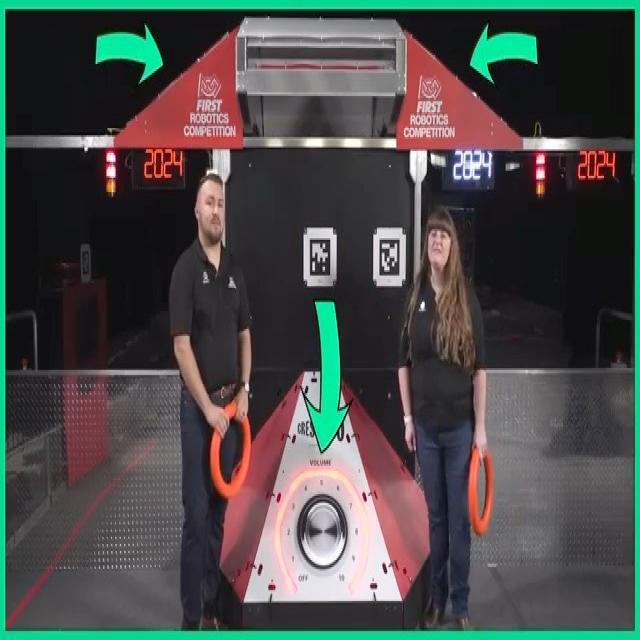note: (208, 402, 253, 501), (466, 444, 494, 538)
